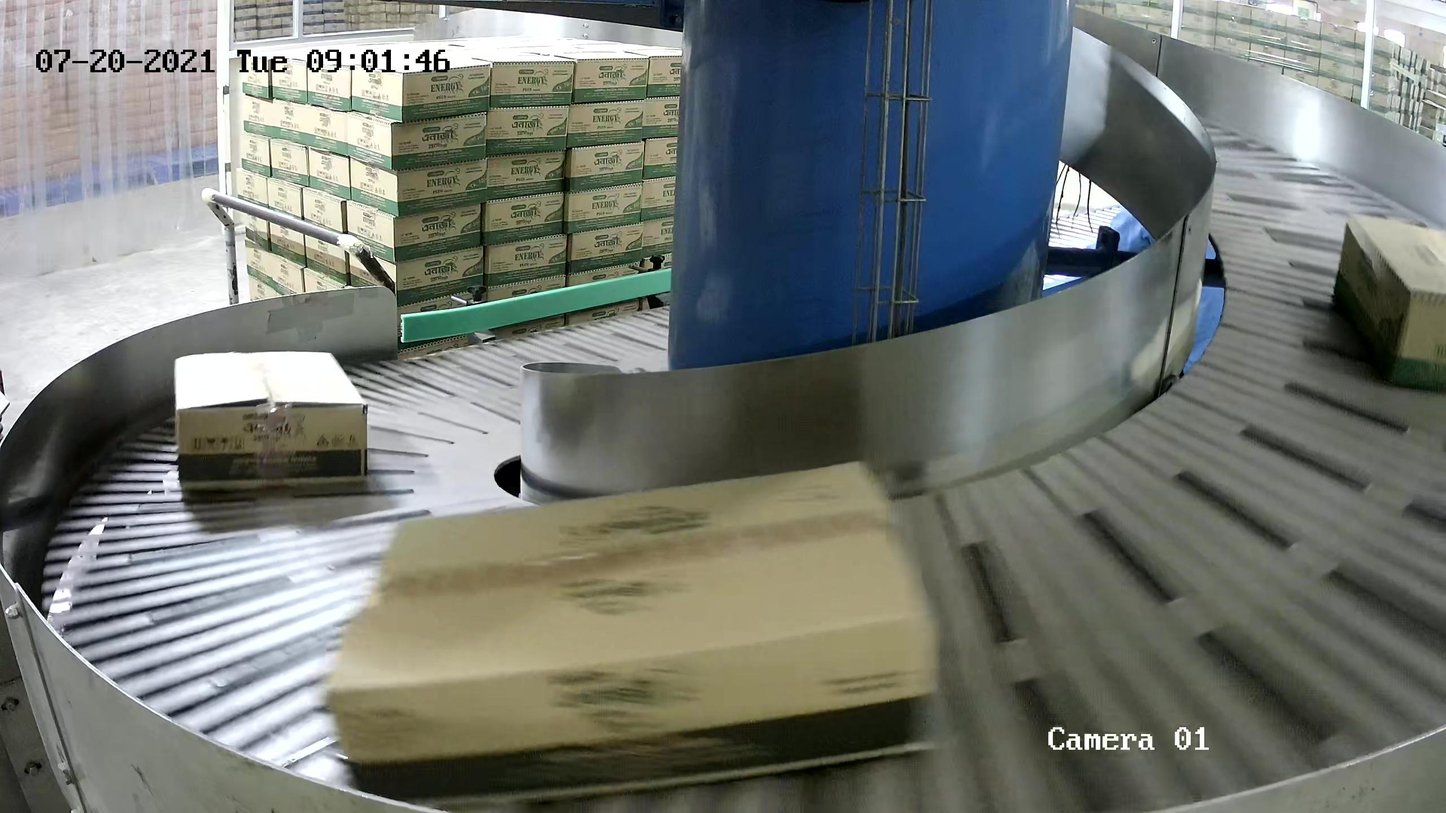Box: (328, 461, 939, 813), (175, 350, 367, 488), (1331, 212, 1446, 392)
